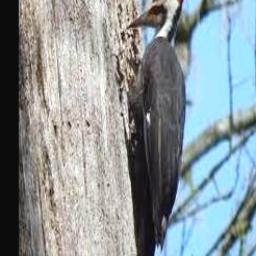Woodpecker: (124, 0, 195, 250)
